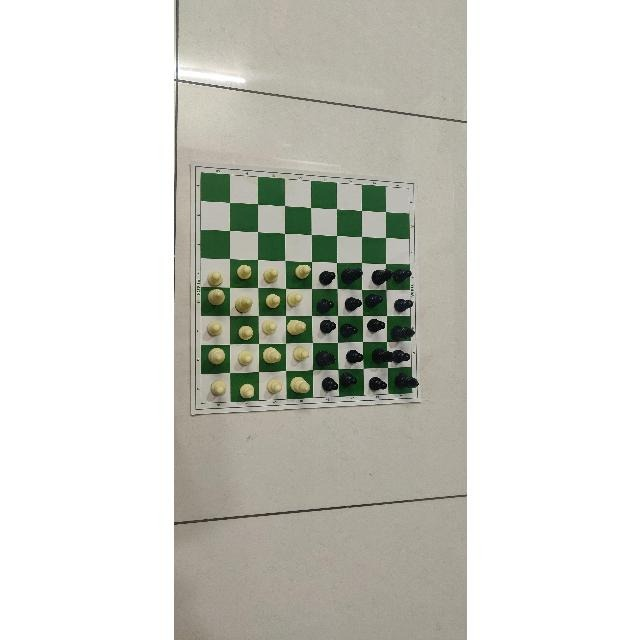black-bishop: (390, 317, 419, 342), (338, 261, 364, 288), (393, 370, 421, 393), (368, 343, 393, 366), (368, 265, 394, 287), (314, 346, 336, 370)
black-pawn: (366, 371, 388, 394), (337, 318, 359, 340), (342, 346, 365, 366), (337, 370, 361, 389), (391, 294, 416, 312), (364, 316, 385, 336), (316, 317, 338, 336), (319, 374, 338, 396), (391, 263, 411, 283), (342, 294, 362, 314), (315, 295, 335, 315), (363, 291, 383, 310), (317, 266, 334, 287), (394, 347, 414, 364)
white-bishop: (231, 287, 255, 317), (287, 372, 311, 398), (203, 342, 227, 366), (282, 317, 310, 337), (260, 343, 282, 367), (204, 288, 225, 308)
white-pawn: (234, 377, 258, 404), (231, 319, 254, 345), (202, 376, 228, 398), (202, 265, 226, 287), (289, 342, 310, 366), (231, 347, 255, 368), (263, 376, 283, 400), (230, 262, 252, 282), (258, 263, 279, 283), (204, 317, 224, 338), (258, 318, 278, 338), (293, 261, 311, 283), (262, 291, 282, 310), (285, 289, 303, 309)
